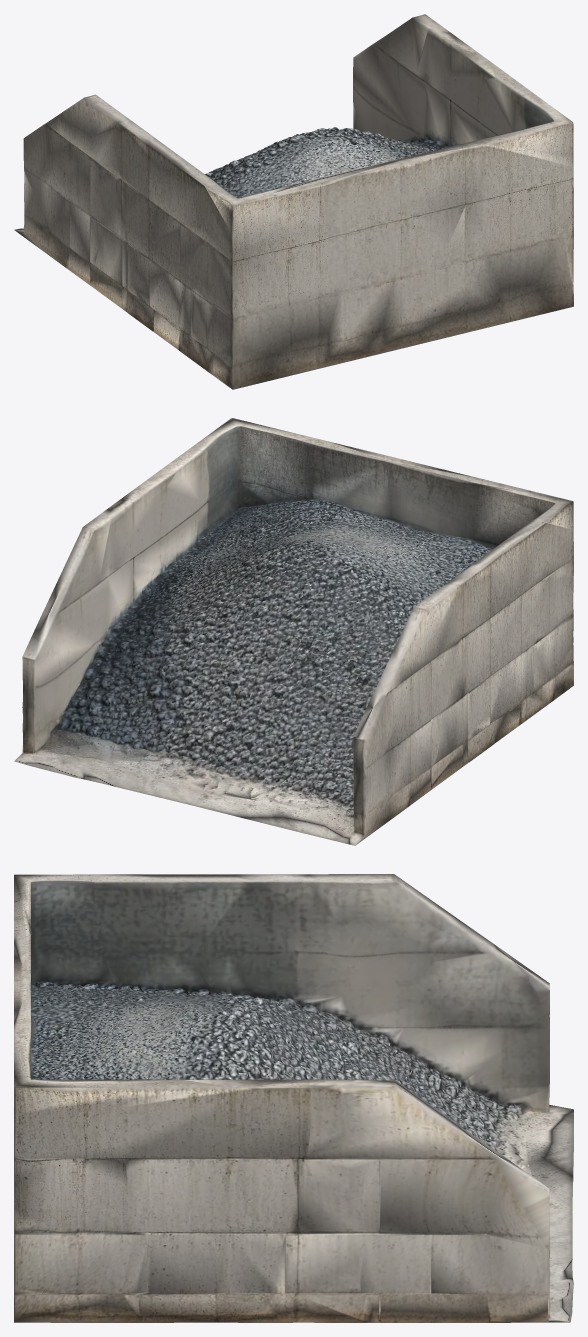
Rendered from baia-brita_lod0.glb.
The picture shows the model from 3 angles, top to bottom: view 1: azimuth 30°, elevation 25°; view 2: azimuth 150°, elevation 25°; view 3: azimuth 270°, elevation 25°; orthographic projection. The views are drawn at different scales.
Parts seen in each view (by area): view 1: tripo_node_1b752a45-827b-44a2-8906-d176a8f09d1b; view 2: tripo_node_1b752a45-827b-44a2-8906-d176a8f09d1b; view 3: tripo_node_1b752a45-827b-44a2-8906-d176a8f09d1b.
Boxes of the visible parts, x1=… form: tripo_node_1b752a45-827b-44a2-8906-d176a8f09d1b: x1=14, y1=14, x2=573, y2=389; tripo_node_1b752a45-827b-44a2-8906-d176a8f09d1b: x1=14, y1=418, x2=573, y2=845; tripo_node_1b752a45-827b-44a2-8906-d176a8f09d1b: x1=14, y1=874, x2=573, y2=1322.
Size of the model in its own units: 7.22 by 3.71 by 8.
Materials: 1 (1 with a texture image).
